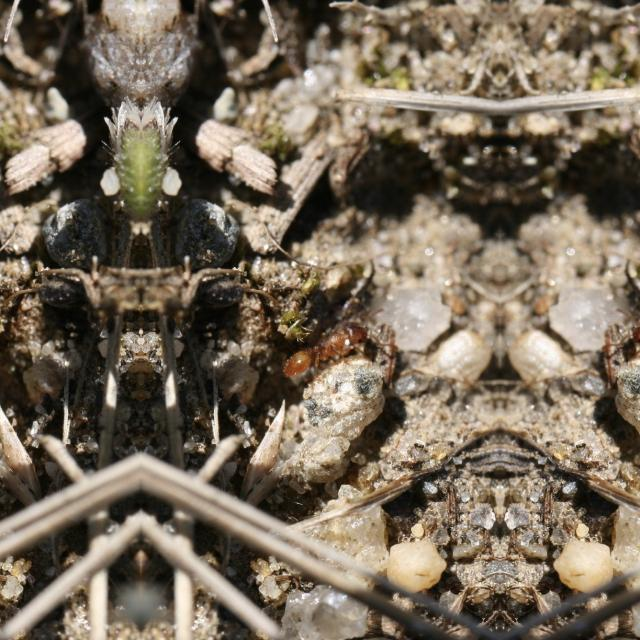Temnothorax: (278, 312, 380, 386), (618, 312, 640, 384)
